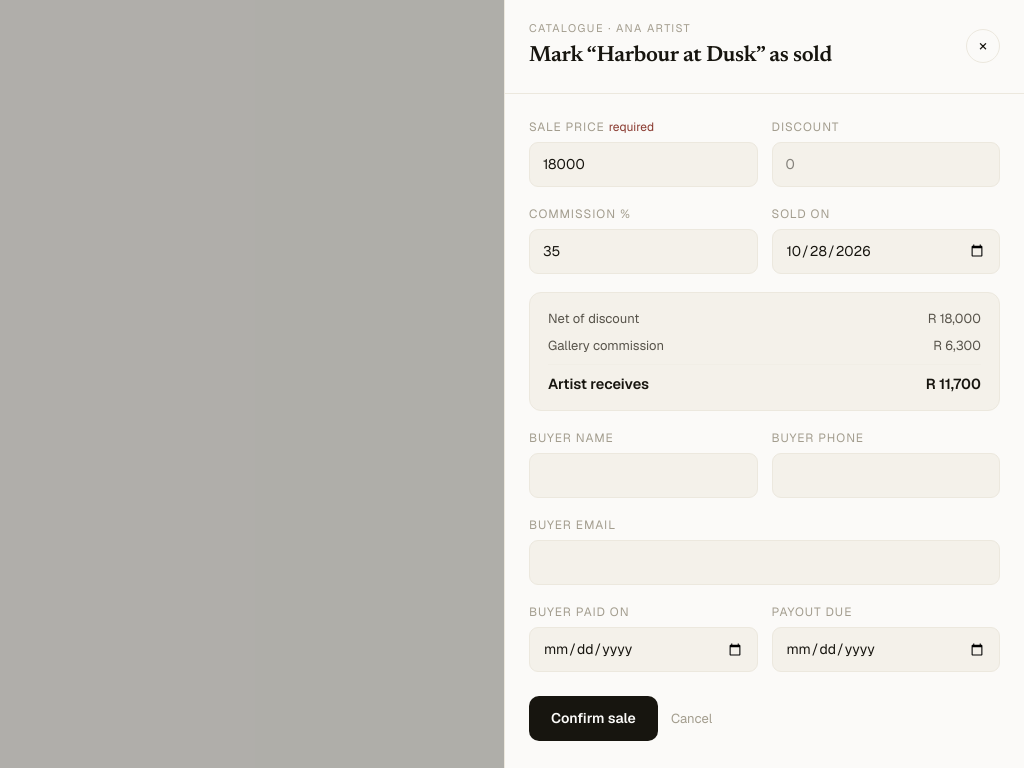
MarkAsSoldDrawer submit › disables the button and shows progress while confirming, then re-enables it
Click the button "Confirm sale".
click(593, 719)  # box x1=529 y1=696 x2=658 y2=741
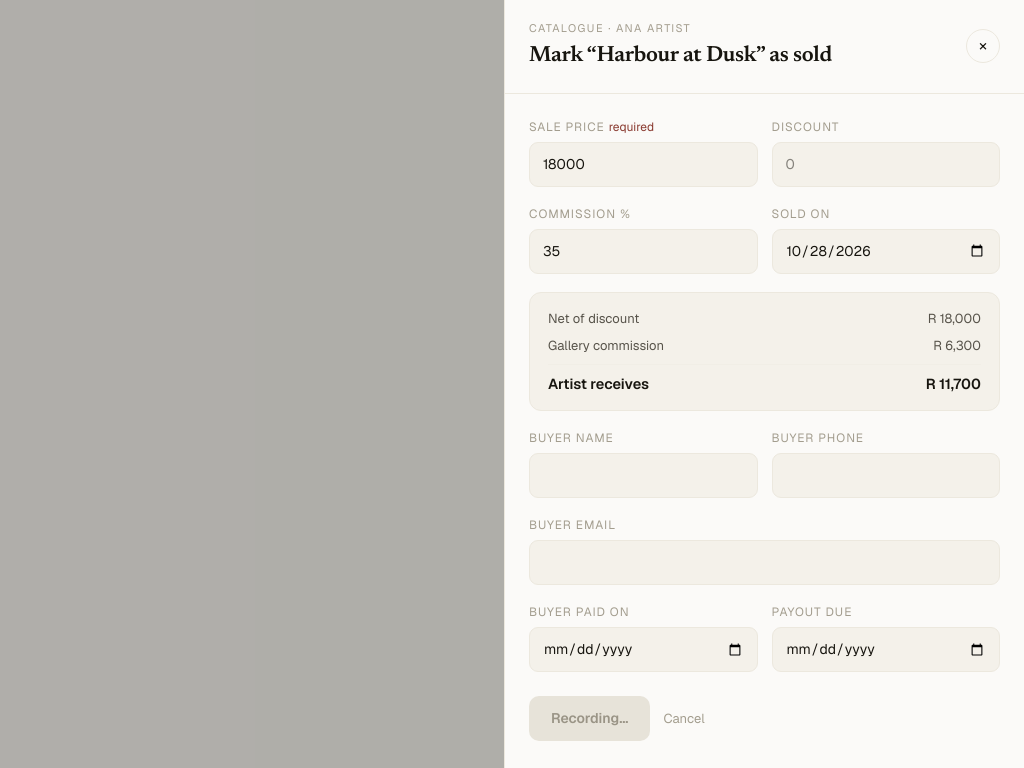
Result: the button "Recording…" is shown
Result: the button "Recording…" is disabled
Click the button "Recording…".
click(590, 719)  # box x1=529 y1=696 x2=650 y2=741
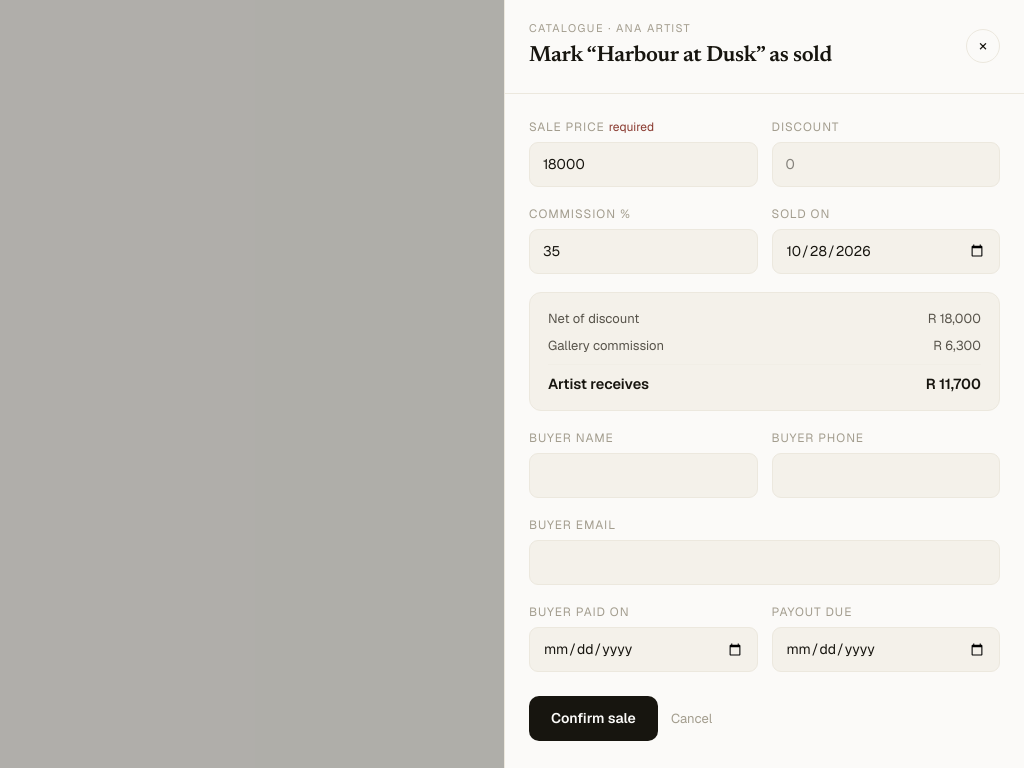
Result: the button "Confirm sale" is shown at x1=529 y1=696 x2=658 y2=741
Result: the button "Confirm sale" is enabled at x1=529 y1=696 x2=658 y2=741
